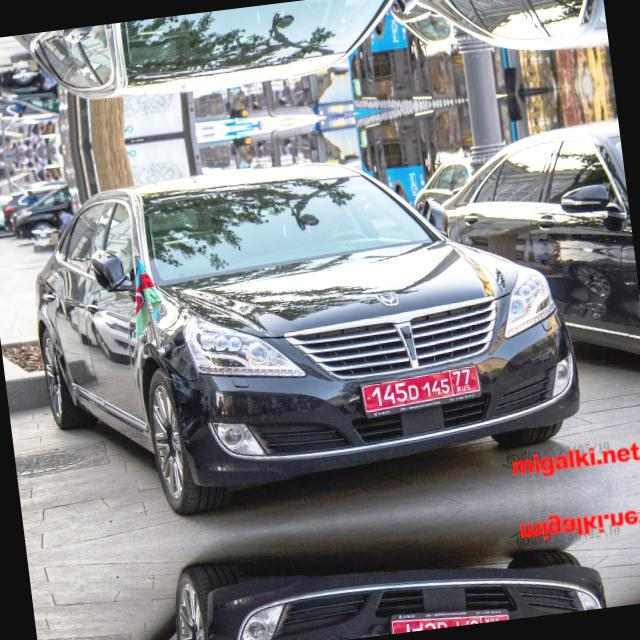diplomatic: (356, 358, 484, 423), (385, 595, 510, 634)
